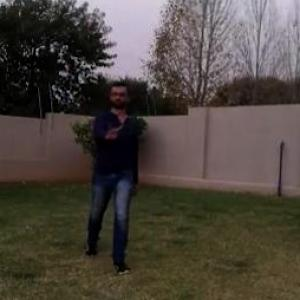takeoff-hand: (97, 116, 125, 152)
